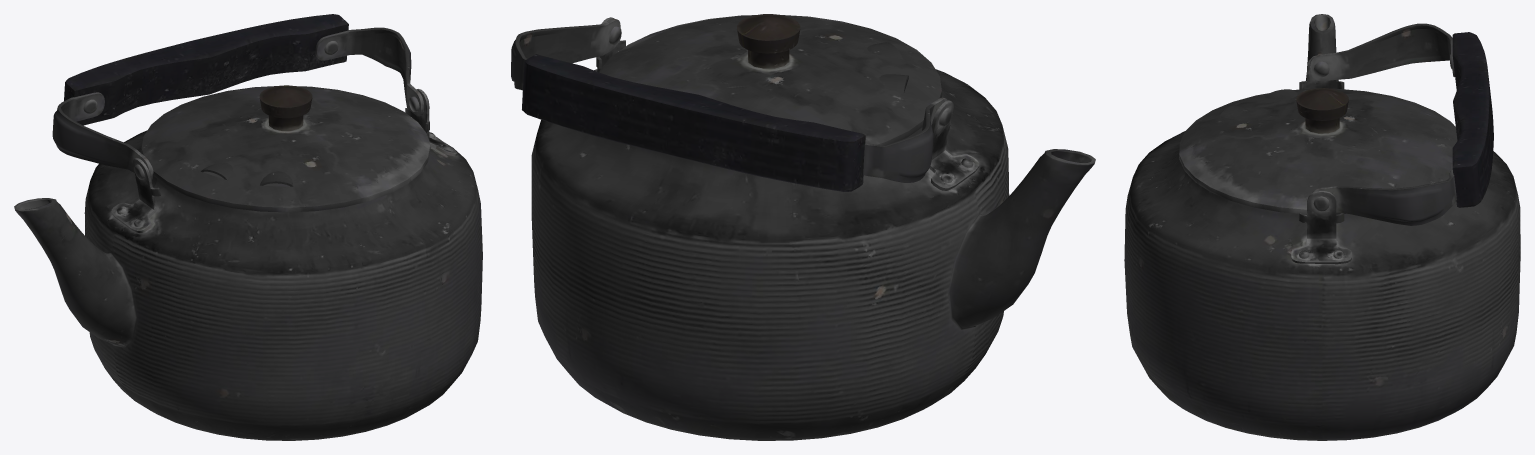
File: soviet_kettle-opt.glb
3 renders of one model, left to right at view 1: azimuth 30°, elevation 25°; view 2: azimuth 150°, elevation 25°; view 3: azimuth 270°, elevation 25°, orthographic. The views are drawn at different scales.
Visible parts, largest first — view 1: Object_2; view 2: Object_2; view 3: Object_2.
Boxes of the visible parts, bbox=[...] form: Object_2: bbox=[14, 14, 482, 440]; Object_2: bbox=[511, 14, 1095, 440]; Object_2: bbox=[1124, 14, 1520, 440].
Bounding box in the file's own units: 1.78 × 1.1 × 1.38.
Materials: 1 (1 with a texture image).
